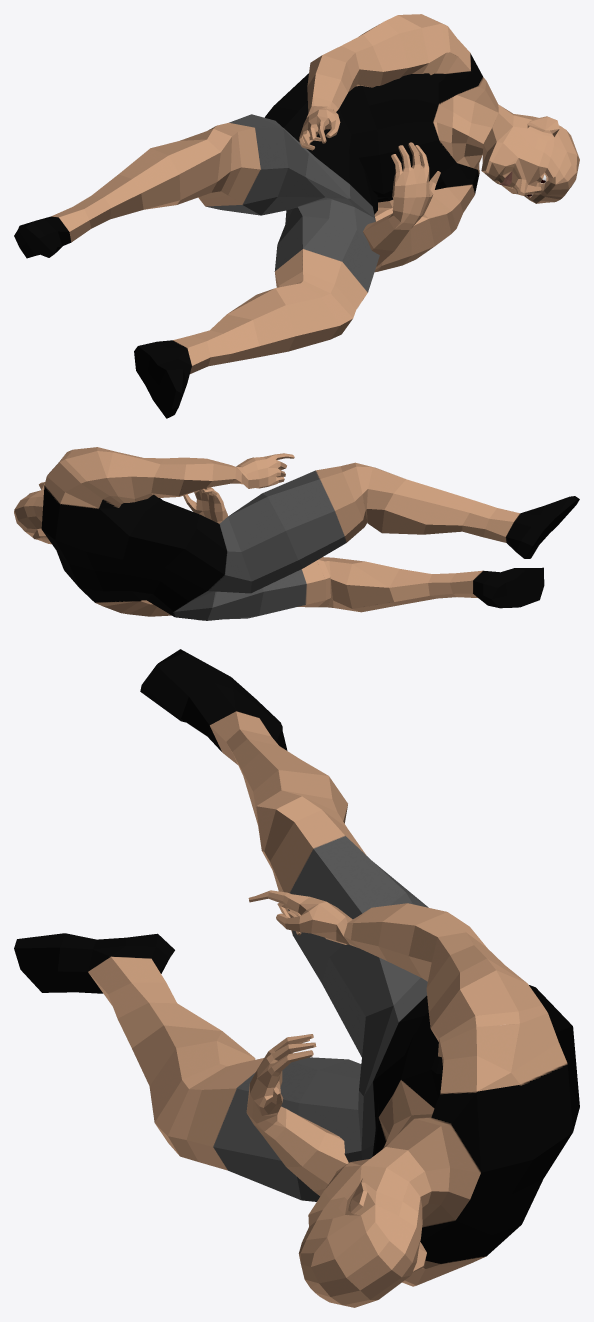
The model's file is PlayerDead(54).obj.
The picture shows the model from 3 angles, top to bottom: view 1: azimuth 30°, elevation 25°; view 2: azimuth 150°, elevation 25°; view 3: azimuth 270°, elevation 25°; orthographic projection. The views are drawn at different scales.
Parts seen in each view (by area): view 1: Plane002; view 2: Plane002; view 3: Plane002.
Boxes of the visible parts, x1=… form: Plane002: x1=14, y1=14, x2=579, y2=418; Plane002: x1=14, y1=447, x2=579, y2=620; Plane002: x1=14, y1=649, x2=579, y2=1307.
Bounding box in the file's own units: 1690 × 562 × 901.
